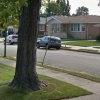Tree: (10, 0, 58, 84)
